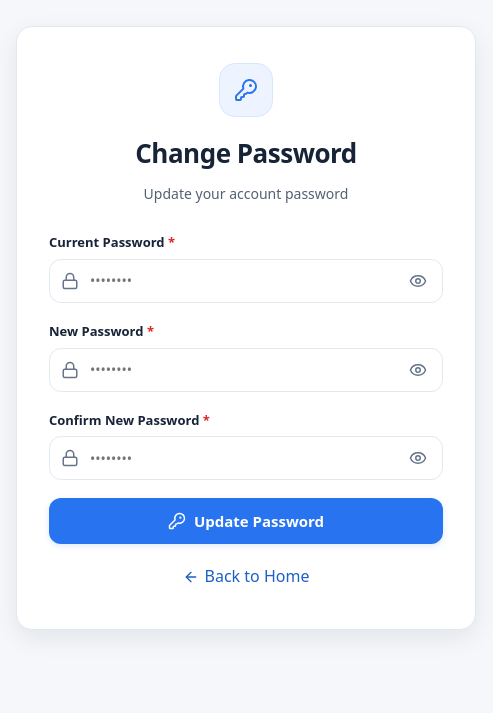
Test: authentication screens › validates and changes password, clears client auth state and reports loading
Type "Example@123" into the password field labelled "Current Password *" at (246, 281), box [49,259,443,303]
Type "Changed@123" into the password field labelled "New Password *" at (246, 370), box [49,348,443,392]
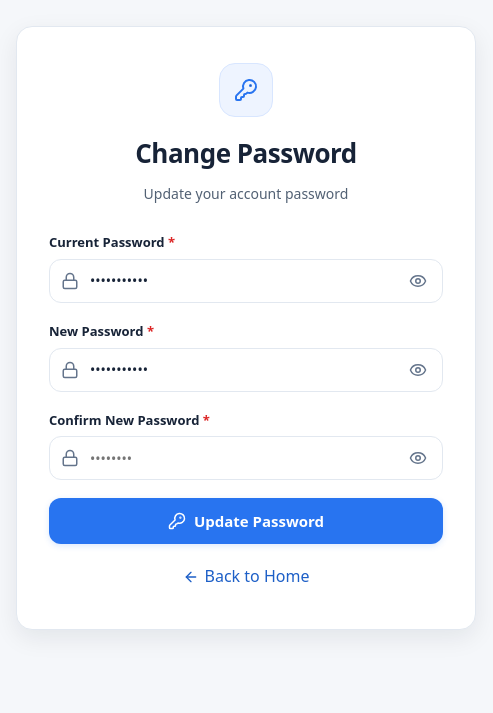
Type "different" into the password field labelled "Confirm New Password *" at (246, 458), box [49,436,443,480]
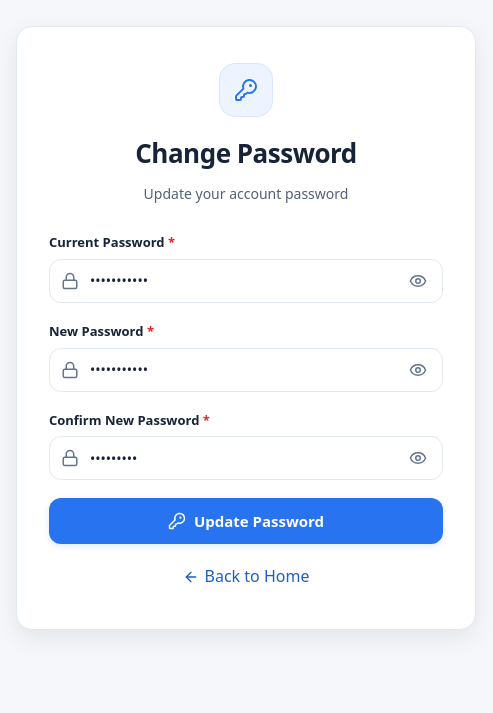
Click the button "Update Password" at (246, 521), box [49,498,443,544]
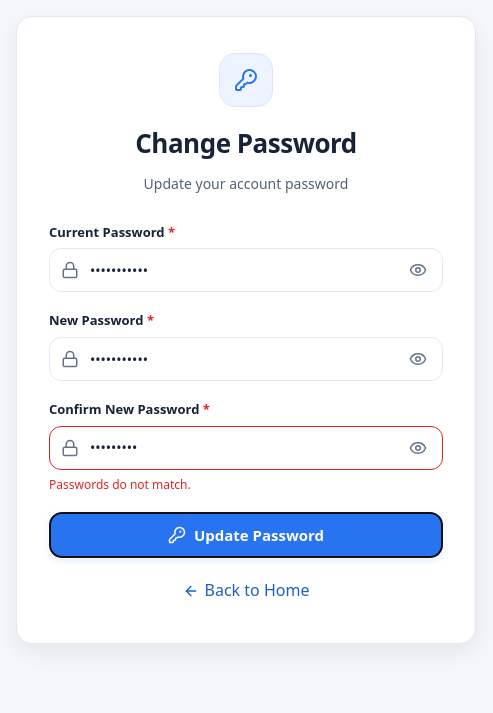
Check: the text "Passwords do not match." is shown, box [49,476,191,493]
Clear the password field labelled "Confirm New Password *" at (246, 448), box [49,426,443,470]
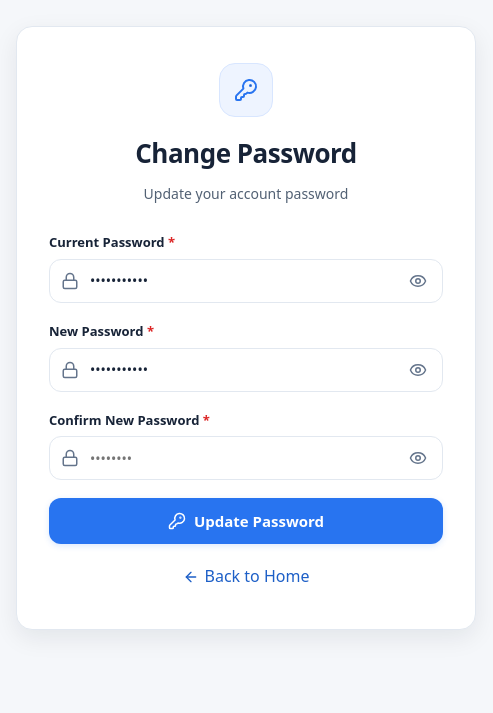
Type "Changed@123" into the password field labelled "Confirm New Password *" at (246, 458), box [49,436,443,480]
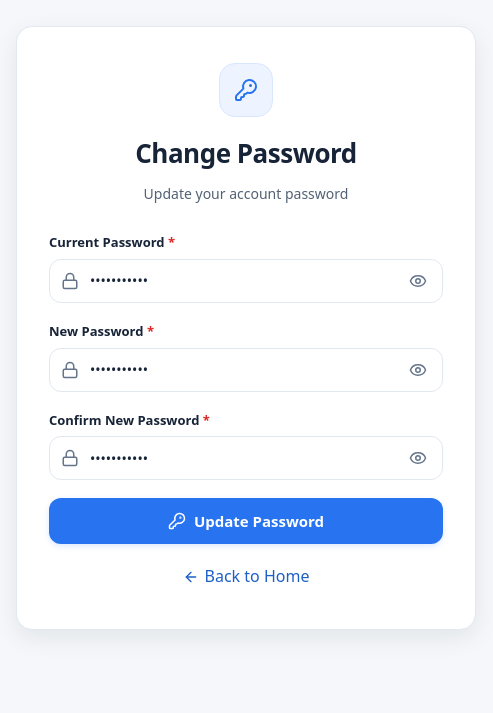
Click the button "Update Password" at (246, 521), box [49,498,443,544]
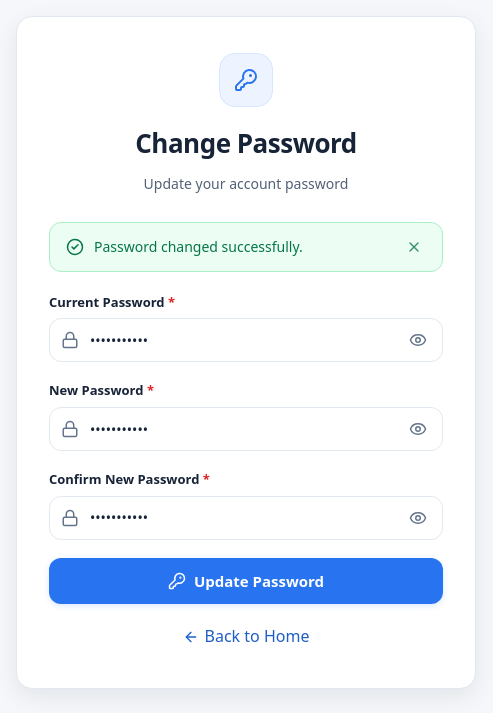
Check: the text "processing" is shown, box [194,571,324,591]
Check: the text "Password changed successfully." is shown, box [94,237,303,256]
